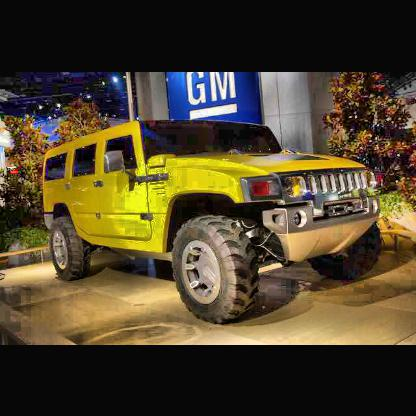AM General Hummer SUV 2000: (40, 121, 386, 327)
